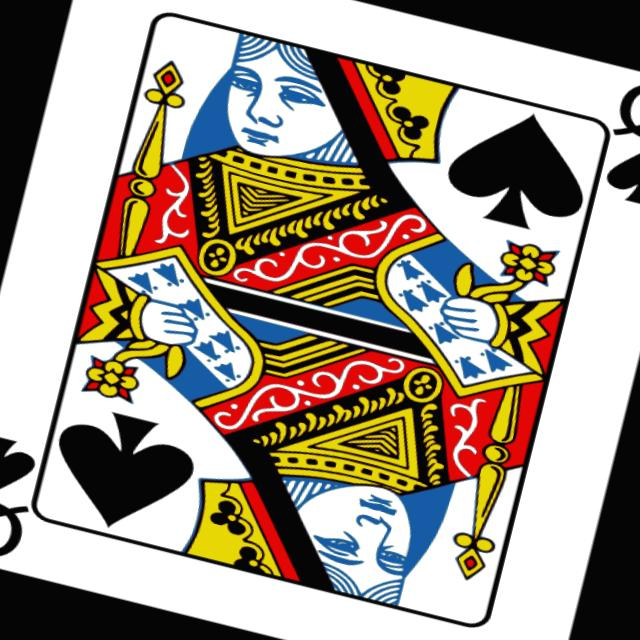Queen: (0, 488, 30, 565), (611, 76, 640, 154)
Spade: (39, 400, 202, 544), (439, 97, 600, 240), (0, 429, 39, 503), (602, 139, 640, 212)
